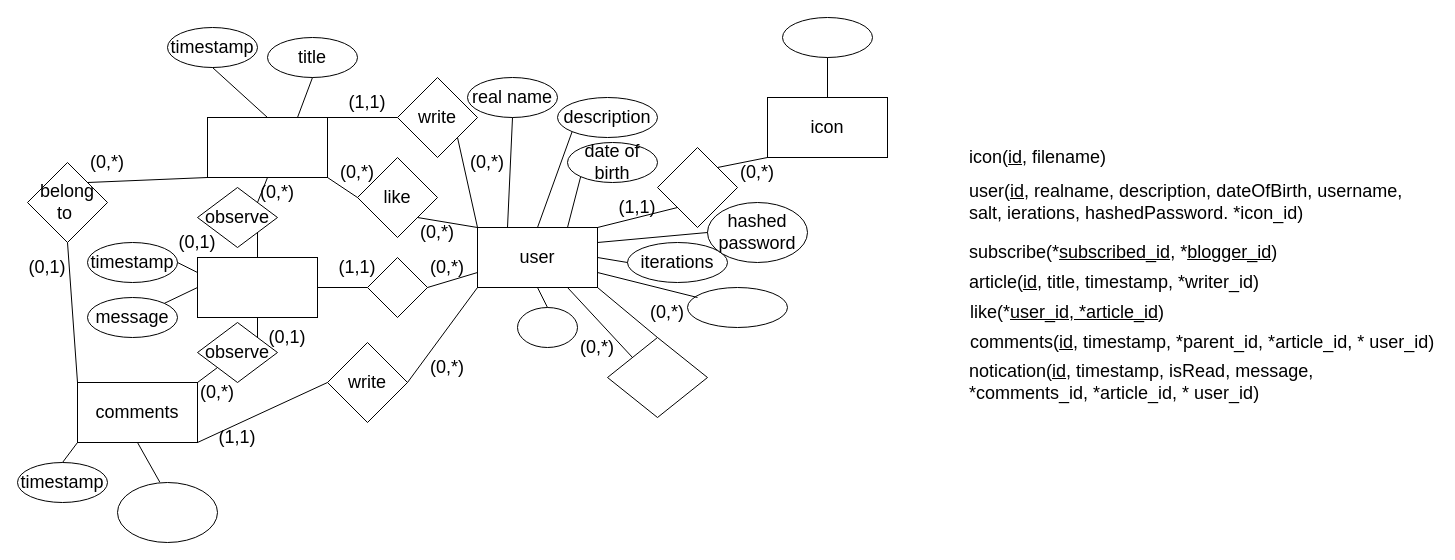
This 1455x560 diagram has some shape labels left out. Here are the shapes that lost their labels. From the top down, the centre of each, then its label:
At (x=827, y=37): "filename".
At (x=267, y=147): "article".
At (x=697, y=187): "use".
At (x=257, y=287): "notification".
At (x=397, y=287): "notify".
At (x=737, y=307): "username".
At (x=547, y=327): "salt".
At (x=657, y=377): "subscribe".
At (x=167, y=512): "*parent_id".
